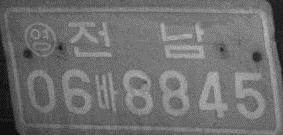0: (25, 69, 56, 115)
4: (197, 71, 227, 120)
5: (233, 71, 266, 121)
6: (60, 67, 92, 115)
8: (121, 68, 153, 117), (158, 69, 190, 117)
바: (94, 71, 117, 114)
영: (23, 21, 57, 58)
전남_D: (66, 21, 206, 59)
